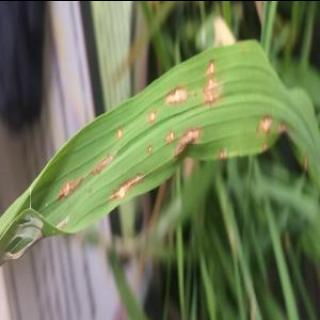Blast: (199, 56, 223, 106), (55, 178, 86, 204), (85, 154, 118, 178), (254, 111, 276, 135), (166, 86, 187, 101), (144, 110, 158, 126), (111, 124, 125, 138), (164, 130, 175, 144), (144, 141, 154, 156)
